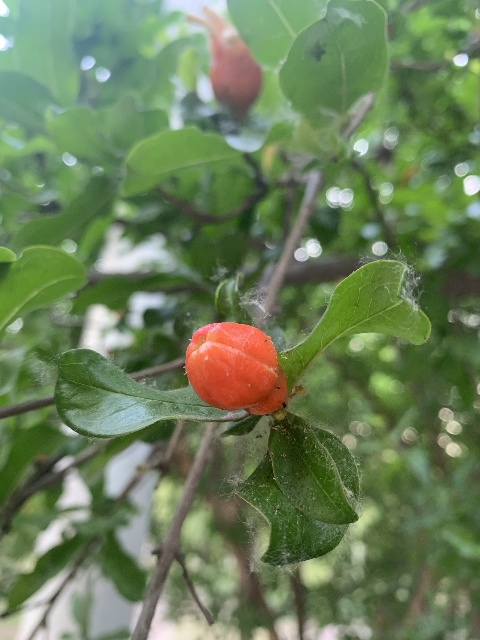bud: (184, 321, 286, 414)
early-fruit: (184, 4, 263, 121)
